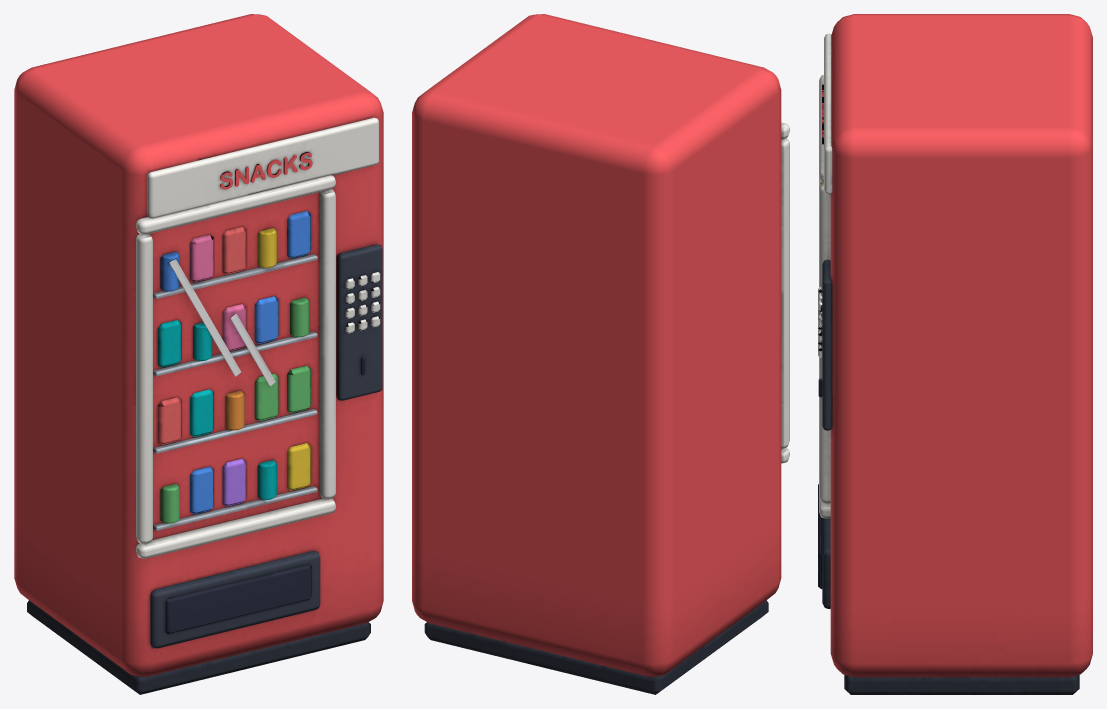
File: vending_machine.glb
3 views of the same model, side by side, from view 1: azimuth 30°, elevation 25°; view 2: azimuth 150°, elevation 25°; view 3: azimuth 270°, elevation 25° (orthographic). The views are drawn at different scales.
Parts seen in each view (by area): view 1: vending_machine; view 2: vending_machine; view 3: vending_machine.
Part boxes in pixels (x1,y1,x2,y2): vending_machine: (14,14,383,694); vending_machine: (412,14,789,694); vending_machine: (818,14,1092,694).
Size of the model in its own units: 0.92 by 1.86 by 0.818.
15 materials, 15 textured.
